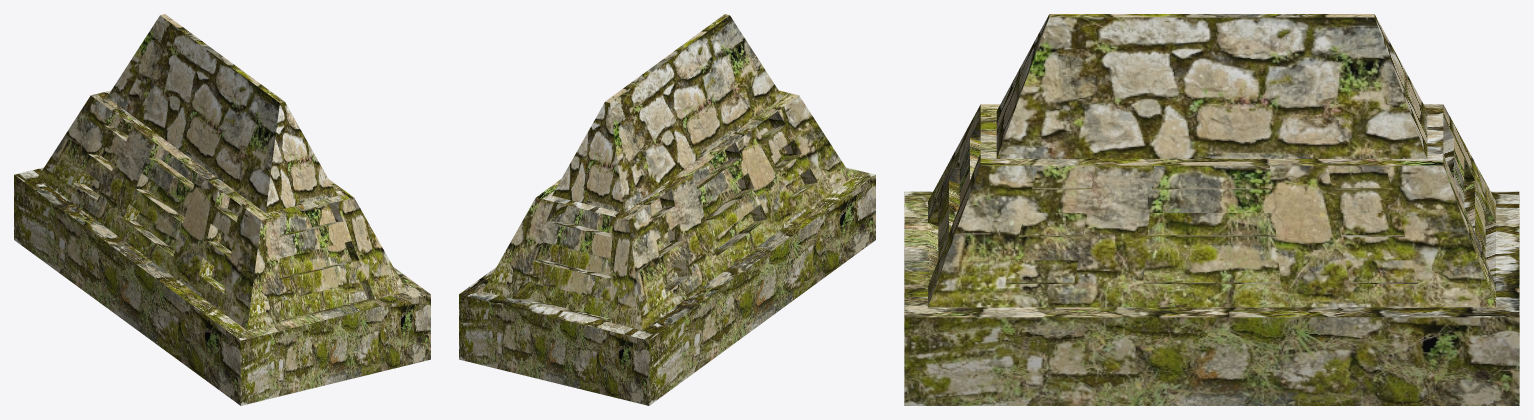
The model's file is Temple.fbx.
3 renders of one model, left to right at view 1: azimuth 30°, elevation 25°; view 2: azimuth 150°, elevation 25°; view 3: azimuth 270°, elevation 25°, orthographic. The views are drawn at different scales.
Visible parts, largest first — view 1: Box001; view 2: Box001; view 3: Box001.
Part boxes in pixels (box(x1,y1,x2,y2)): Box001: box(14, 14, 430, 405); Box001: box(459, 14, 875, 405); Box001: box(904, 14, 1519, 405).
Bounding box in the file's own units: 22.81 × 27.69 × 47.14.
1 material, 1 textured.
